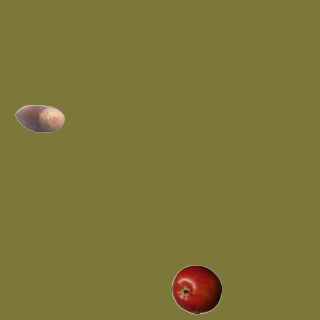Apple Braeburn: (171, 264, 221, 314)
Hazelnut: (14, 93, 64, 143)
